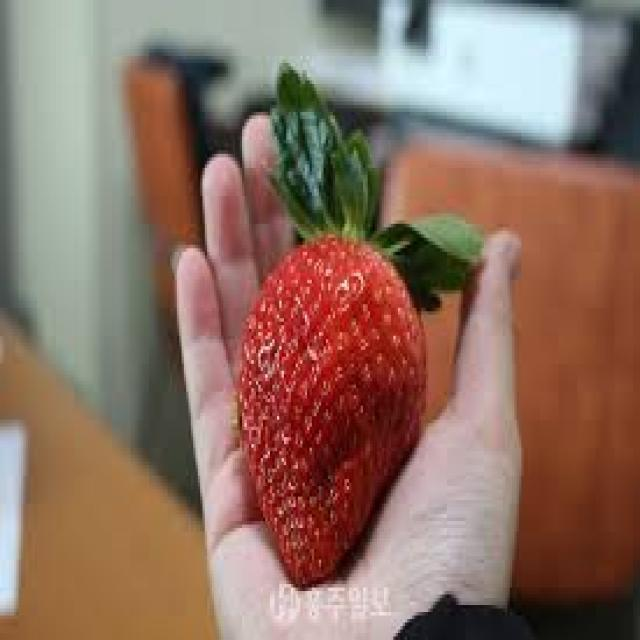Strawberry: (237, 237, 429, 586)
